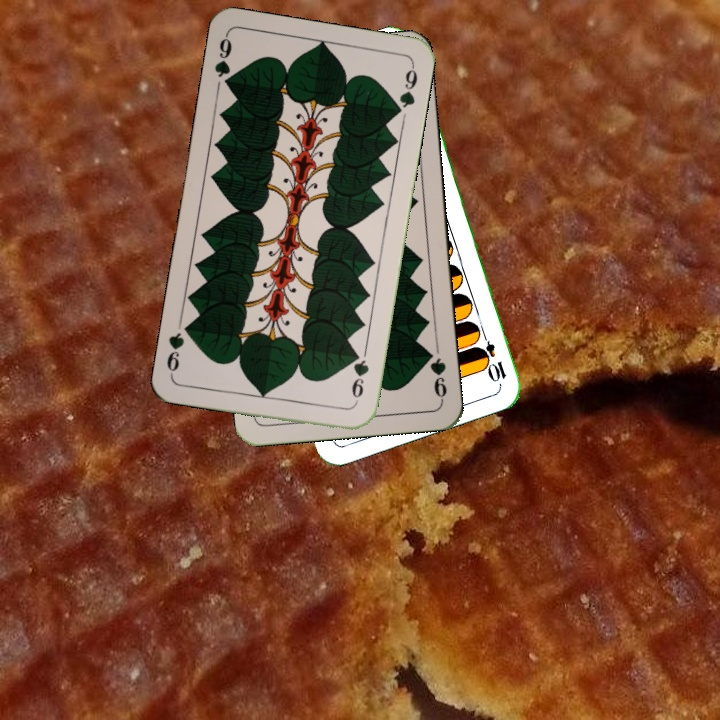E10: (475, 327, 509, 385)
G9: (422, 345, 450, 404), (210, 31, 236, 92), (347, 348, 372, 407)
